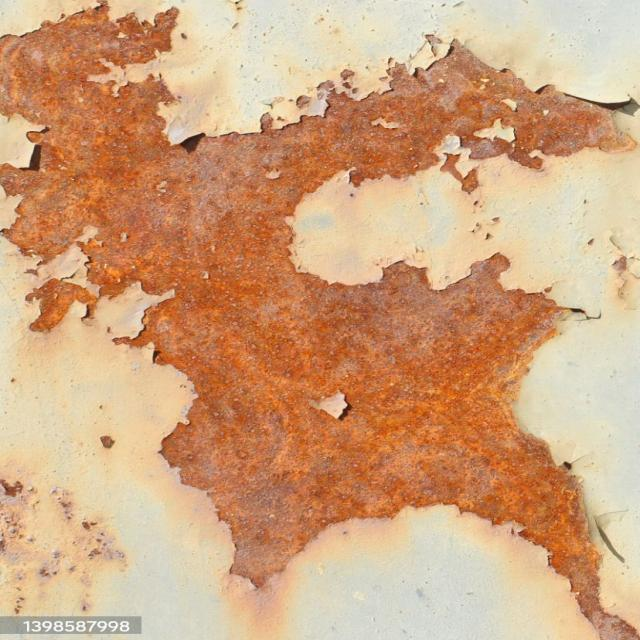Uniform Corrosion: (0, 9, 639, 639), (26, 278, 98, 332)
